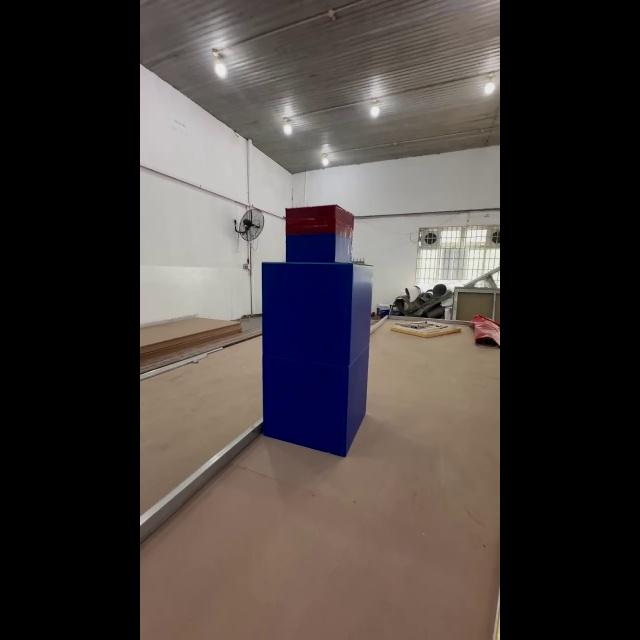earth_block: (260, 261, 376, 361)
sky_block: (286, 204, 355, 262)
